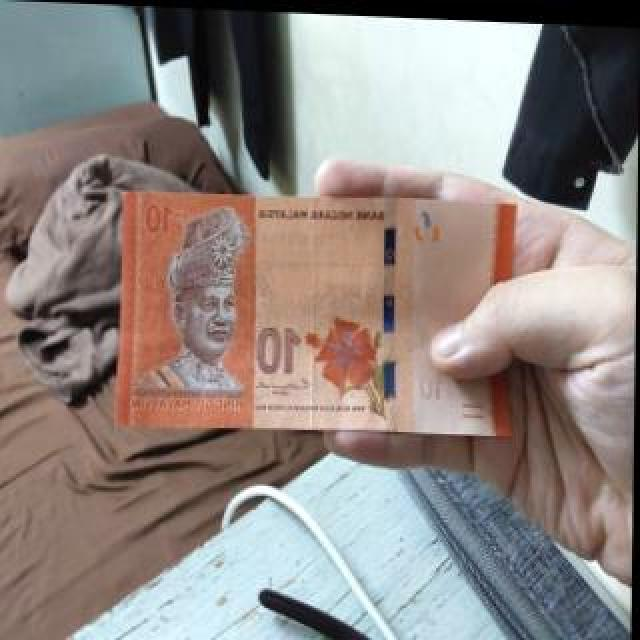10 Ringgit: (118, 186, 513, 436)
